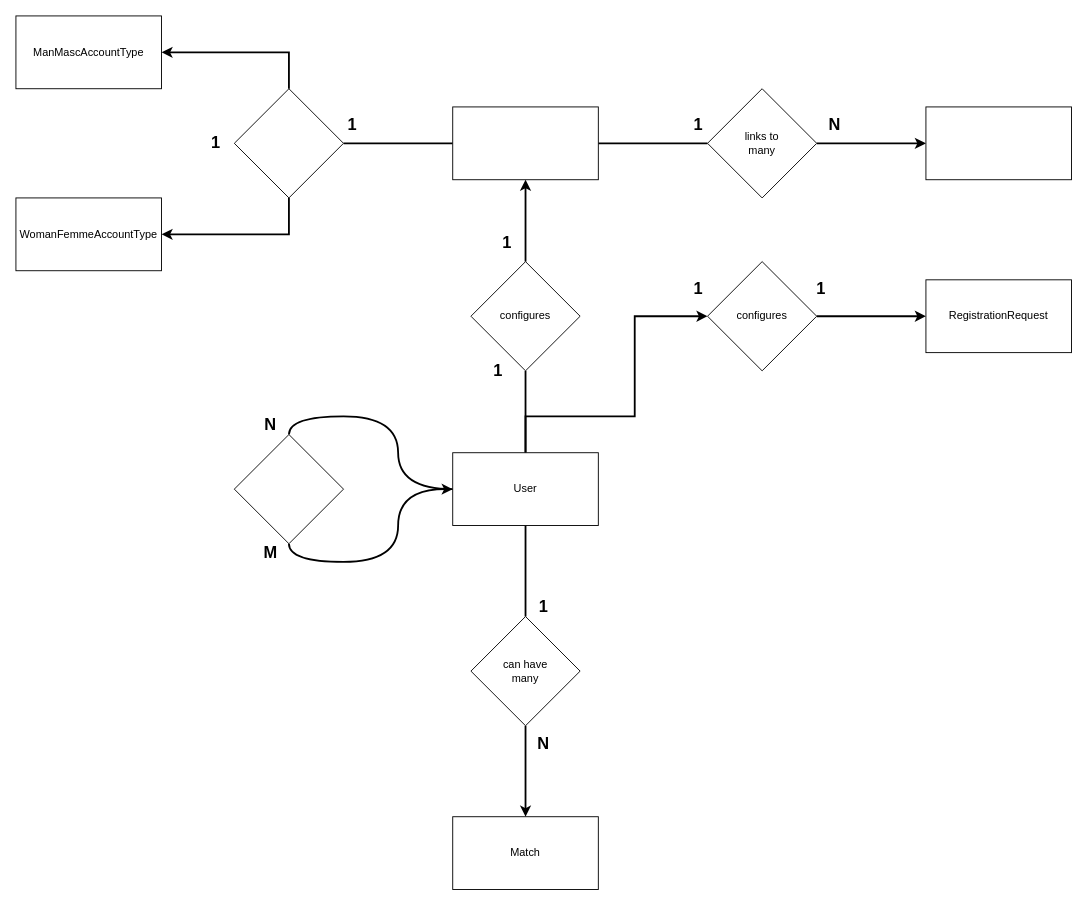
Image size: 1087x905. Some labels were removed from this diagram. The shapes that lost their labels are listed below. From the top down, each one's box as (x1, y1, x2, y2) in pixels, then its label:
(233, 88, 344, 198): is one of either
(452, 106, 598, 180): Profile
(925, 106, 1072, 180): Photo
(233, 434, 344, 544): send likes to
